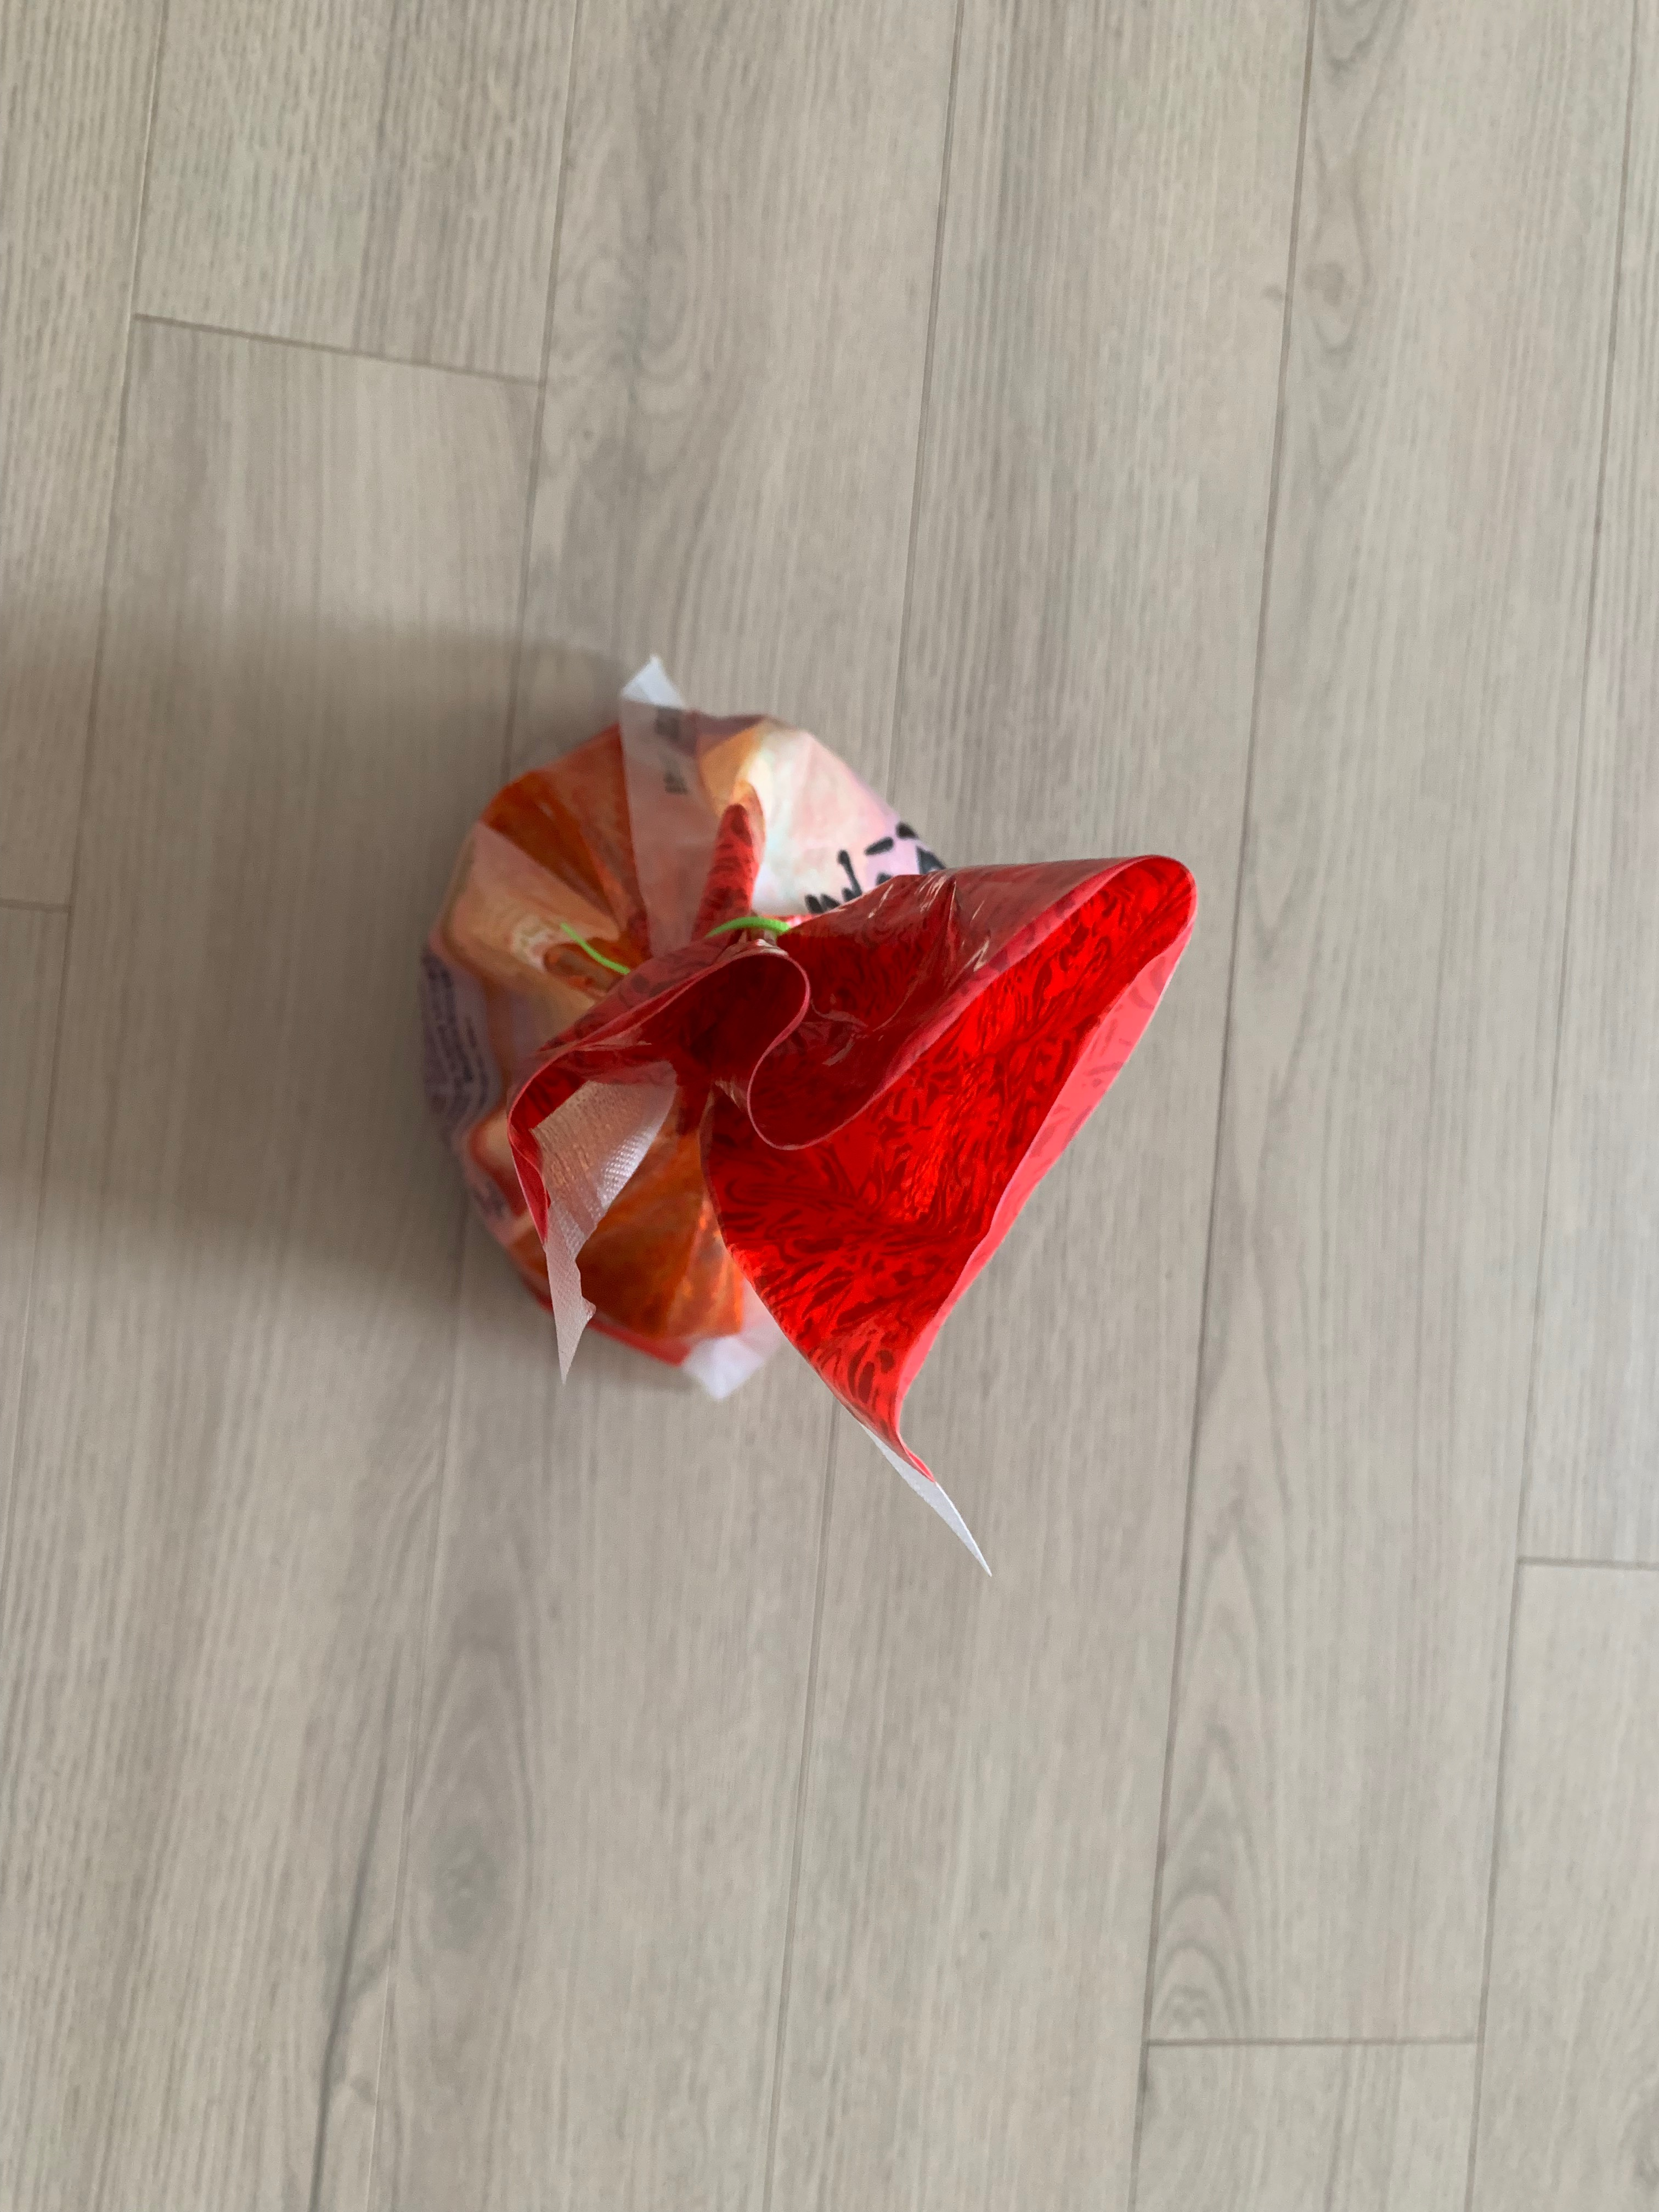kimchi: (420, 700, 1197, 1420)
